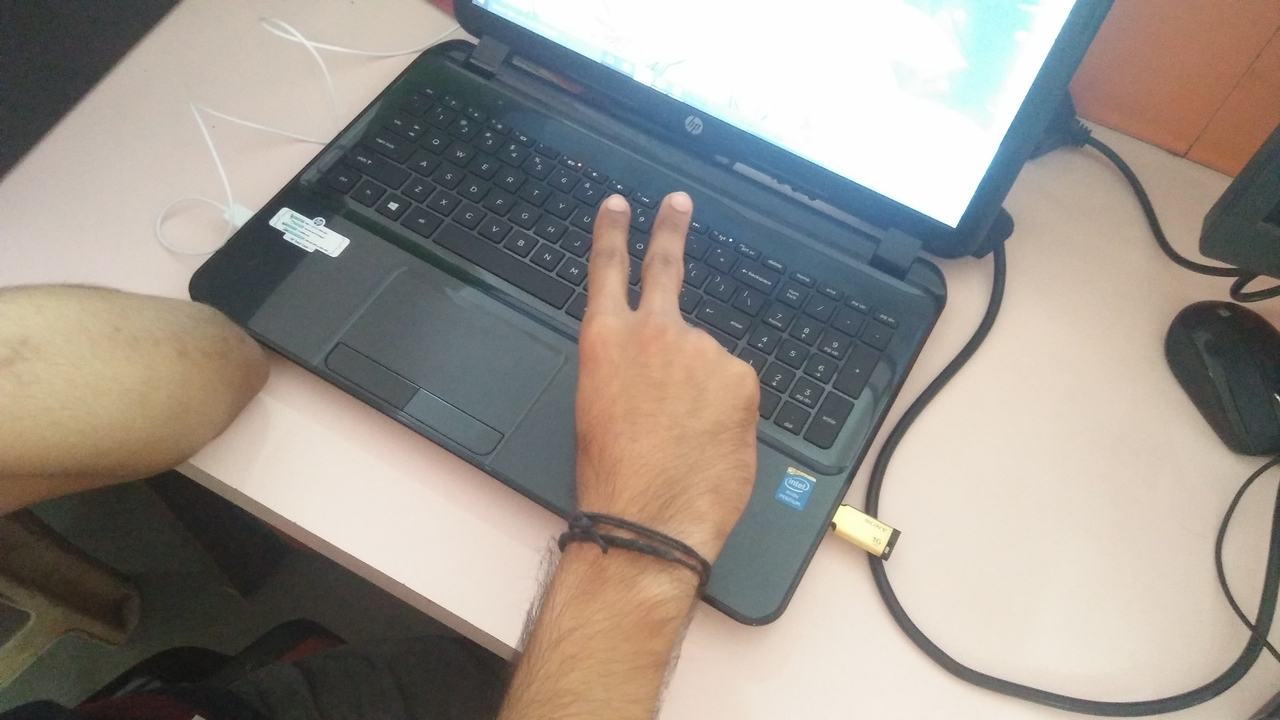fingertip: (646, 176, 702, 226), (588, 180, 642, 230)
